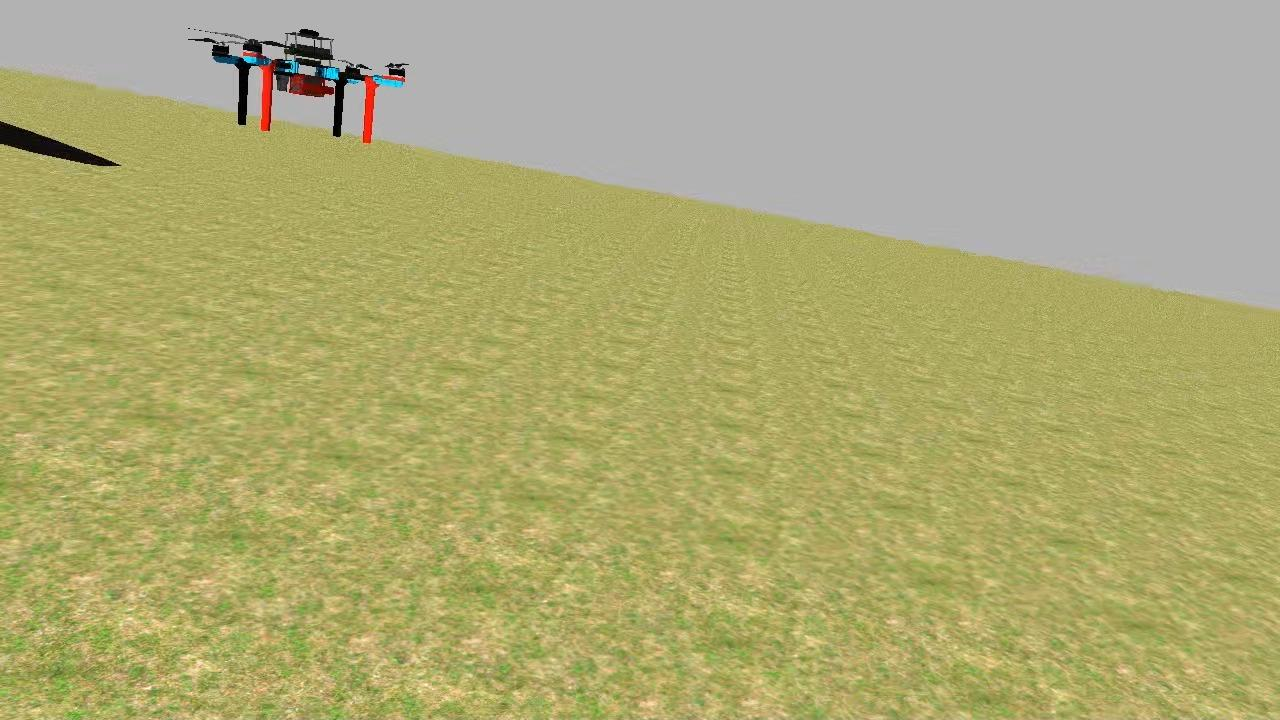UAV: (197, 20, 414, 150)
